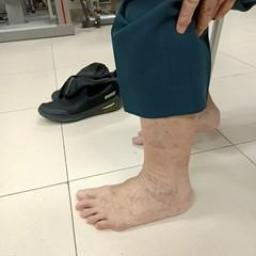Lateral View -Left Foot-: (56, 149, 221, 240)
